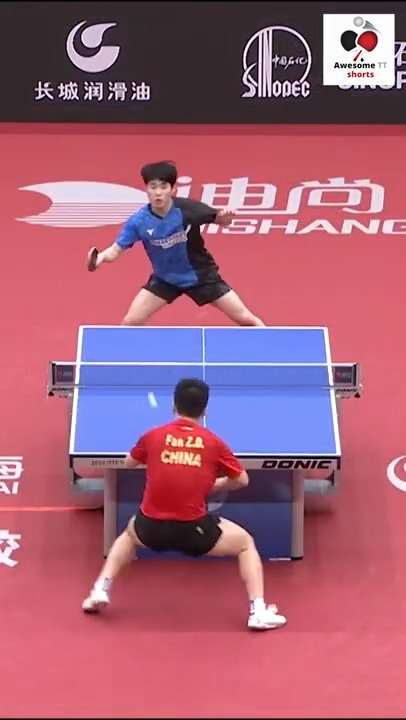Ball: (148, 392, 158, 408)
